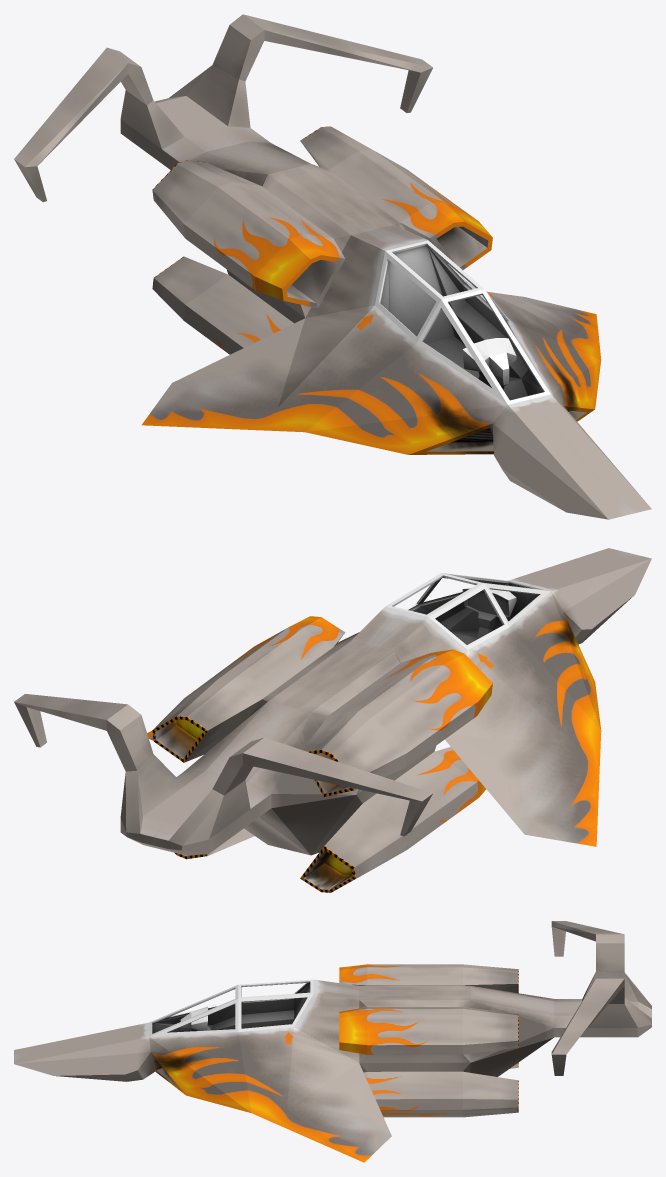
The model's file is lightning-with-interior.obj.
3 views of the same model, one above another, from view 1: azimuth 30°, elevation 25°; view 2: azimuth 150°, elevation 25°; view 3: azimuth 270°, elevation 25° (orthographic). The views are drawn at different scales.
Visible parts, largest first — view 1: Lightning_Lightning_Hull_lightning.png, Interior_Interior_Interior_InteriorTex.png, Canopy_Canopy_Canopy_InteriorTex.png; view 2: Lightning_Lightning_Hull_lightning.png, Interior_Interior_Interior_InteriorTex.png, Canopy_Canopy_Canopy_InteriorTex.png; view 3: Lightning_Lightning_Hull_lightning.png, Interior_Interior_Interior_InteriorTex.png, Canopy_Canopy_Canopy_InteriorTex.png.
Part boxes in pixels (left/top/right/bottom): Lightning_Lightning_Hull_lightning.png: left=14, top=14, right=651, bottom=519; Interior_Interior_Interior_InteriorTex.png: left=380, top=245, right=543, bottom=400; Canopy_Canopy_Canopy_InteriorTex.png: left=375, top=240, right=550, bottom=404; Lightning_Lightning_Hull_lightning.png: left=14, top=548, right=651, bottom=892; Interior_Interior_Interior_InteriorTex.png: left=408, top=583, right=538, bottom=644; Canopy_Canopy_Canopy_InteriorTex.png: left=385, top=573, right=550, bottom=649; Lightning_Lightning_Hull_lightning.png: left=14, top=921, right=651, bottom=1162; Interior_Interior_Interior_InteriorTex.png: left=152, top=983, right=310, bottom=1033; Canopy_Canopy_Canopy_InteriorTex.png: left=149, top=979, right=313, bottom=1036.
Size of the model in its own units: 6.54 by 2.81 by 11.84.
3 materials, 3 textured.
